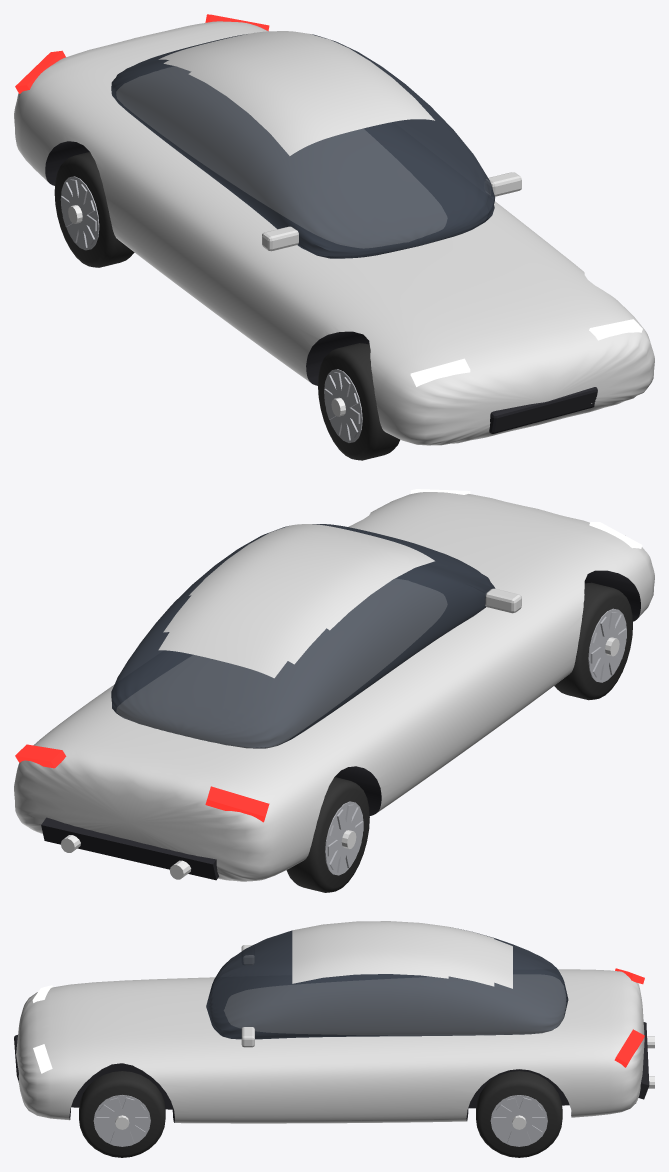
File: sedan.glb
3 renders of one model, top to bottom at view 1: azimuth 30°, elevation 25°; view 2: azimuth 150°, elevation 25°; view 3: azimuth 270°, elevation 25°, orthographic. The views are drawn at different scales.
Parts seen in each view (by area): view 1: Car, Wheel_FL, Wheel_RL, Rim, Rim.002; view 2: Car, Wheel_RL, Wheel_FL, Rim.002, Rim; view 3: Car, Wheel_FR, Wheel_RR, Rim.003, Rim.001.
Boxes of the visible parts, <box> form: Car: <box>14,14,654,445</box>; Wheel_FL: <box>318,343,399,460</box>; Wheel_RL: <box>54,152,134,267</box>; Rim: <box>324,369,362,442</box>; Rim.002: <box>60,176,99,250</box>; Car: <box>14,489,654,881</box>; Wheel_RL: <box>286,777,369,892</box>; Wheel_FL: <box>554,582,632,700</box>; Rim.002: <box>325,801,363,875</box>; Rim: <box>588,608,626,682</box>; Car: <box>14,921,654,1123</box>; Wheel_FR: <box>79,1071,165,1157</box>; Wheel_RR: <box>476,1071,562,1157</box>; Rim.003: <box>490,1095,547,1146</box>; Rim.001: <box>93,1095,150,1146</box>.
Bounding box in the file's own units: 1.79 × 1.41 × 4.73.
